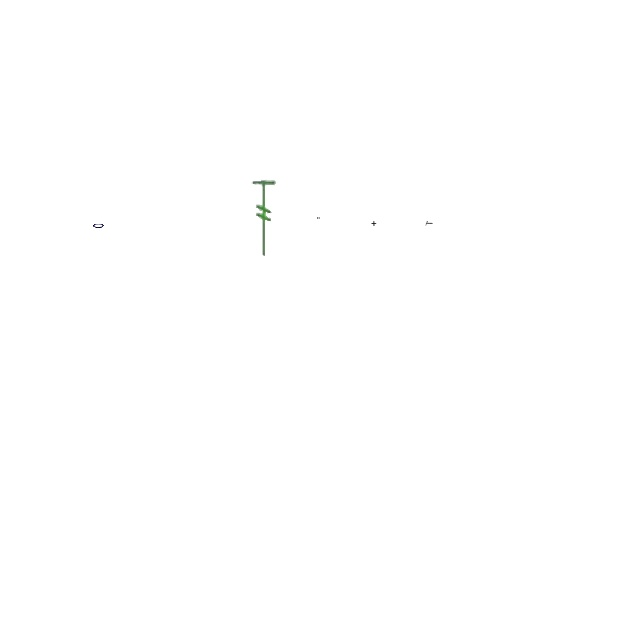chain: (92, 222, 106, 230), (318, 217, 320, 219)
double: (371, 222, 377, 226)
enseble_chain: (425, 222, 433, 226)
fan: (250, 180, 278, 258)
